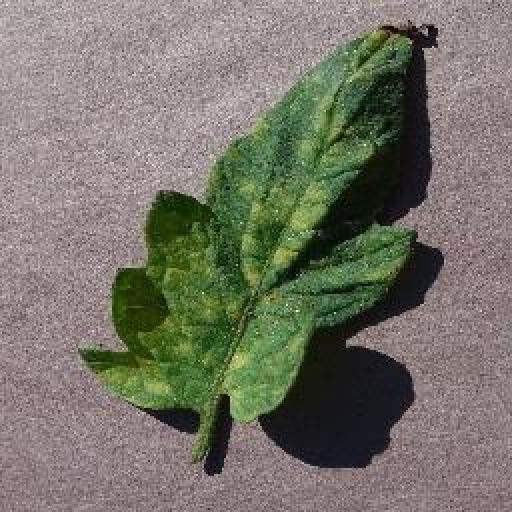Leaf Mold: (74, 21, 419, 423)
